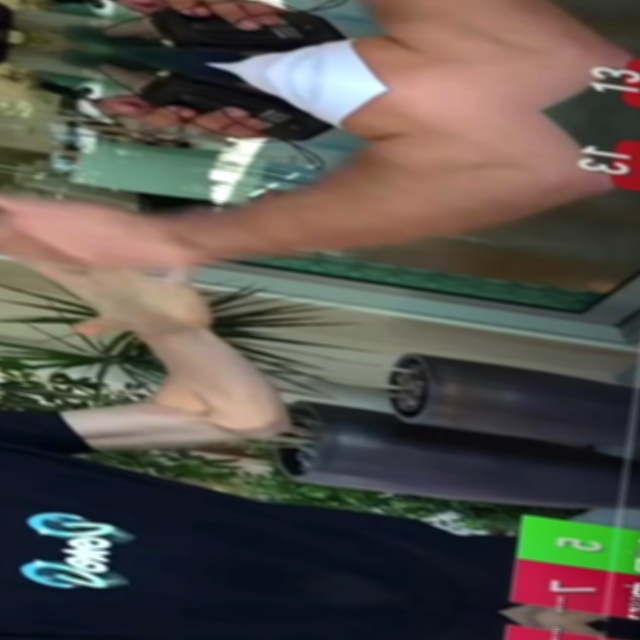Paper: (9, 245, 226, 354), (0, 182, 203, 287)
